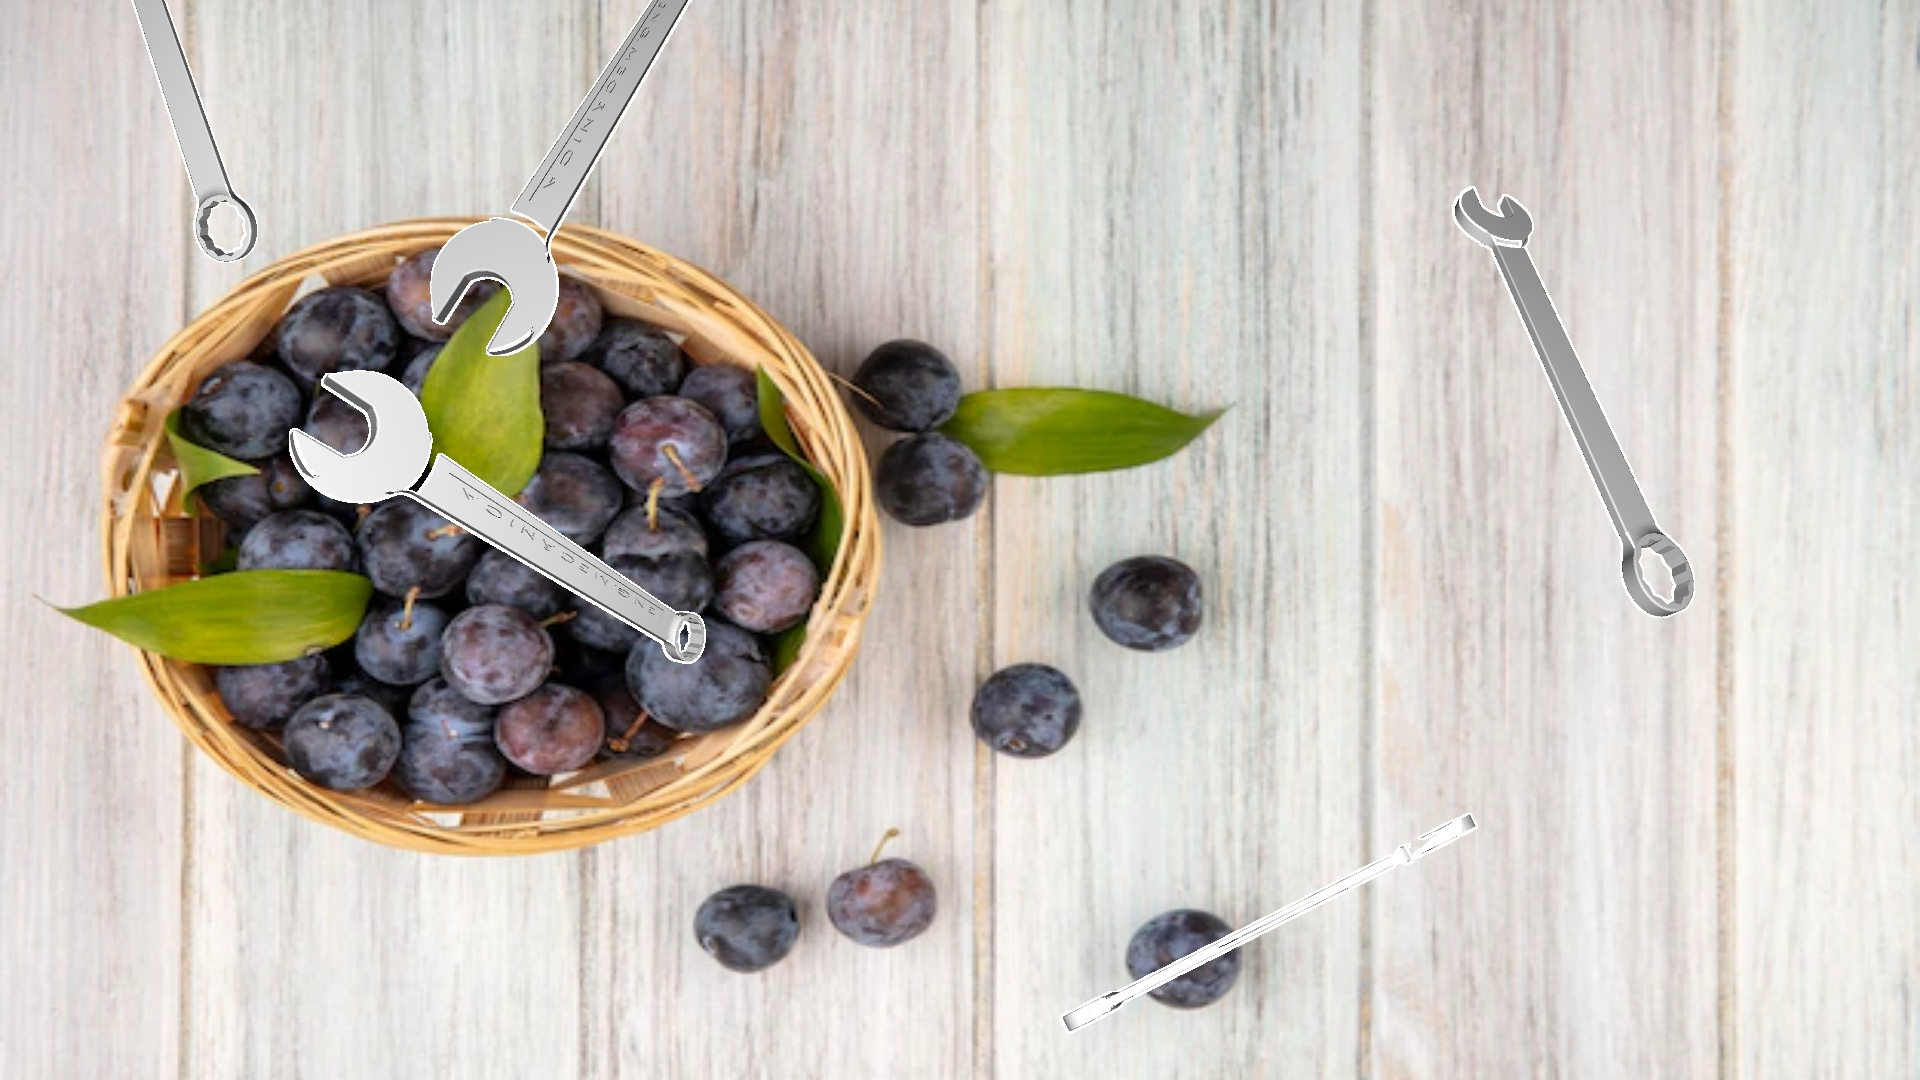Mixed Key: (289, 371, 705, 663), (1452, 186, 1695, 617), (430, 0, 691, 355), (1060, 814, 1477, 1033), (131, 0, 257, 262)
